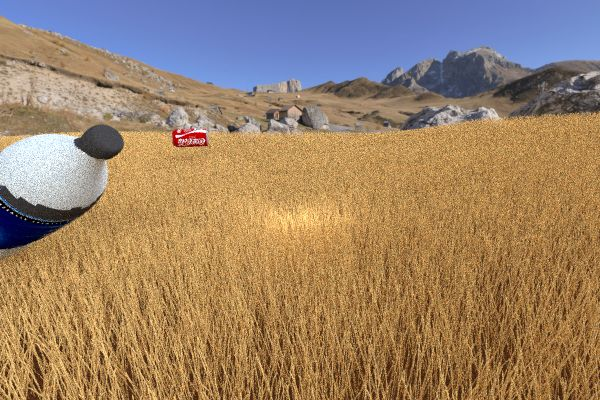Plastic Bottle: (0, 124, 121, 266), (323, 122, 391, 161), (202, 125, 236, 145)
